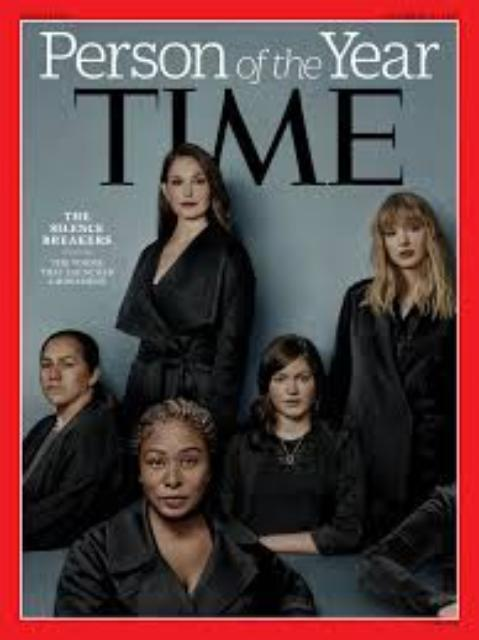cardboard paper: (21, 20, 460, 623)
